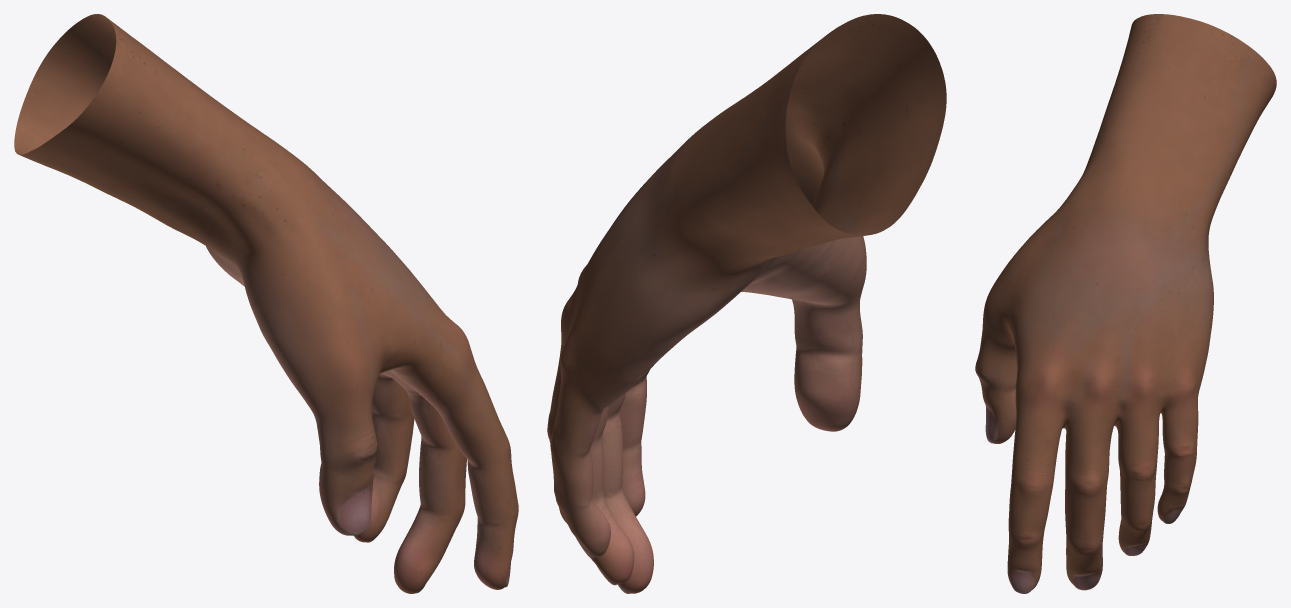
Rendered from hand.glb.
3 renders of one model, left to right at view 1: azimuth 30°, elevation 25°; view 2: azimuth 150°, elevation 25°; view 3: azimuth 270°, elevation 25°, orthographic. The views are drawn at different scales.
Parts seen in each view (by area): view 1: defaultMaterial; view 2: defaultMaterial; view 3: defaultMaterial.
Part boxes in pixels (box(x1,y1,x2,y2)): defaultMaterial: box(14, 14, 518, 593); defaultMaterial: box(547, 14, 946, 593); defaultMaterial: box(975, 14, 1276, 593).
Size of the model in its own units: 1.36 by 2 by 1.14.
1 material, 1 textured.
